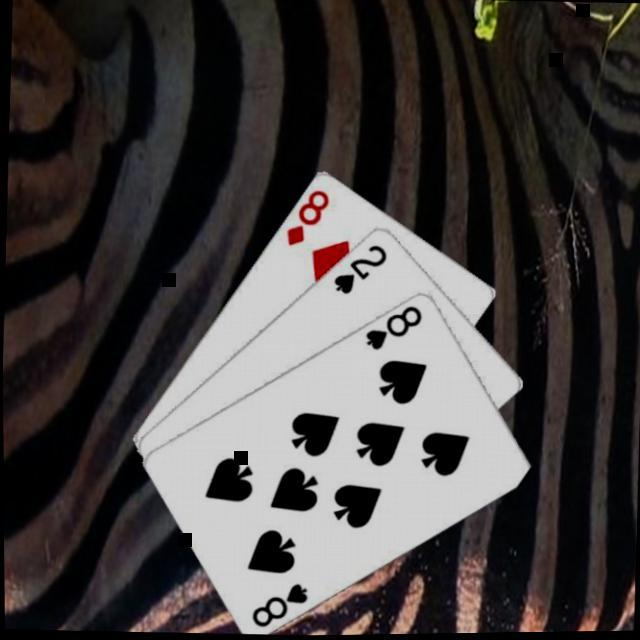2S: (330, 242, 390, 300)
8D: (282, 185, 332, 252)
8S: (247, 578, 312, 633), (361, 301, 425, 356)
